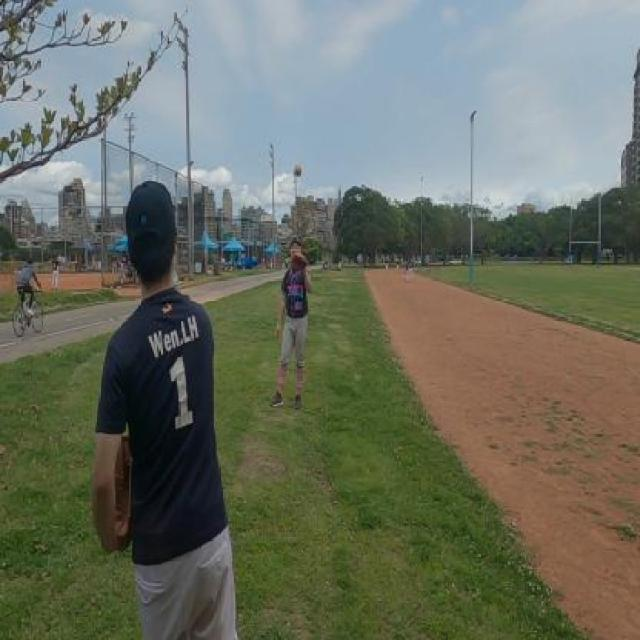baseball: (294, 165, 301, 177)
